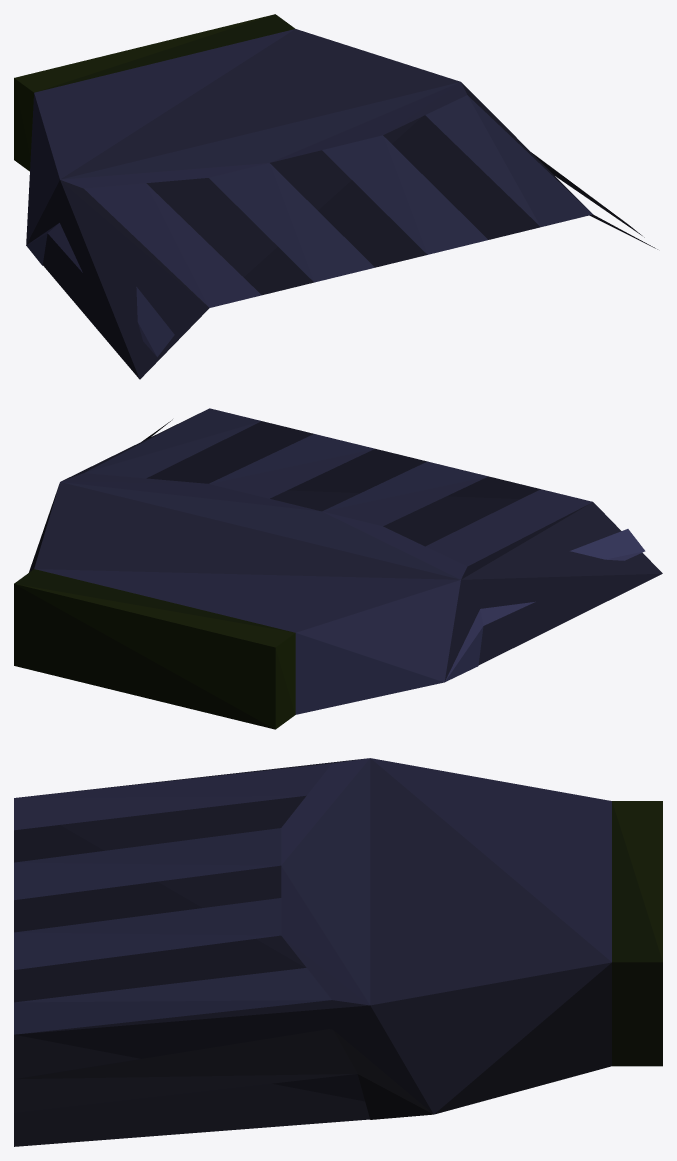
File: mithril-plateskirt.obj
3 views of the same model, one above another, from view 1: azimuth 30°, elevation 25°; view 2: azimuth 150°, elevation 25°; view 3: azimuth 270°, elevation 25° (orthographic). The views are drawn at different scales.
Visible parts, largest first — view 1: Item Mithril plateskirt 2026-09-24_18-13-57; view 2: Item Mithril plateskirt 2026-09-24_18-13-57; view 3: Item Mithril plateskirt 2026-09-24_18-13-57.
Boxes of the visible parts, x1,y1,x2,y2 form: Item Mithril plateskirt 2026-09-24_18-13-57: (14,14,657,379); Item Mithril plateskirt 2026-09-24_18-13-57: (14,408,662,729); Item Mithril plateskirt 2026-09-24_18-13-57: (14,758,662,1146).
Bounding box in the file's own units: 60 × 9 × 51.
